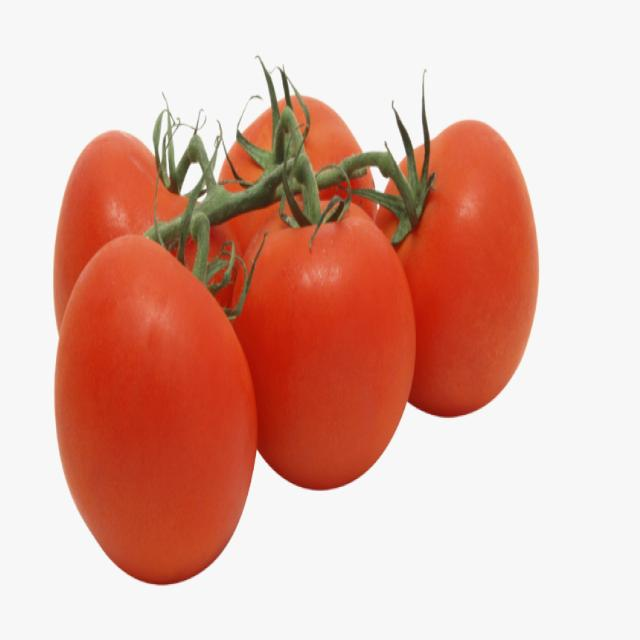kirmizi: (48, 72, 541, 589)
